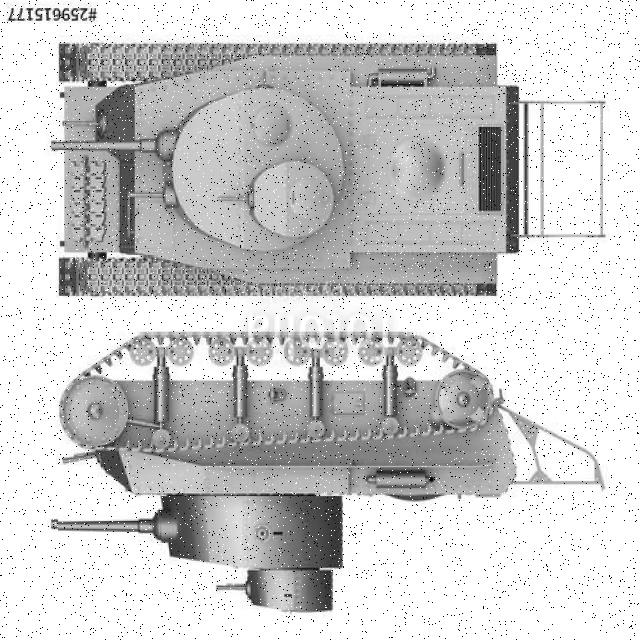MIL_MBT: (58, 334, 602, 616), (67, 32, 523, 311)
